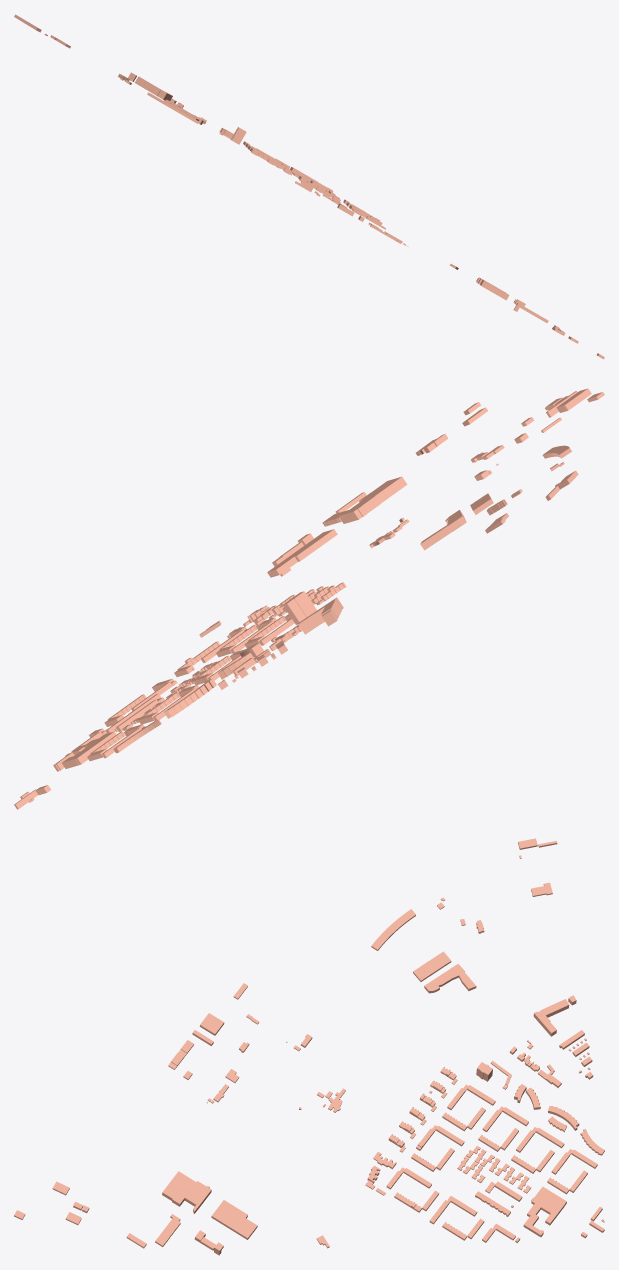
3 renders of one model, top to bottom at view 1: azimuth 30°, elevation 25°; view 2: azimuth 150°, elevation 25°; view 3: azimuth 270°, elevation 25°, orthographic. The views are drawn at different scales.
Size of the model in its own units: 752 by 543 by 1138.
